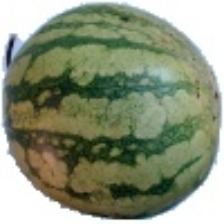watermelon: (44, 54, 216, 210)
